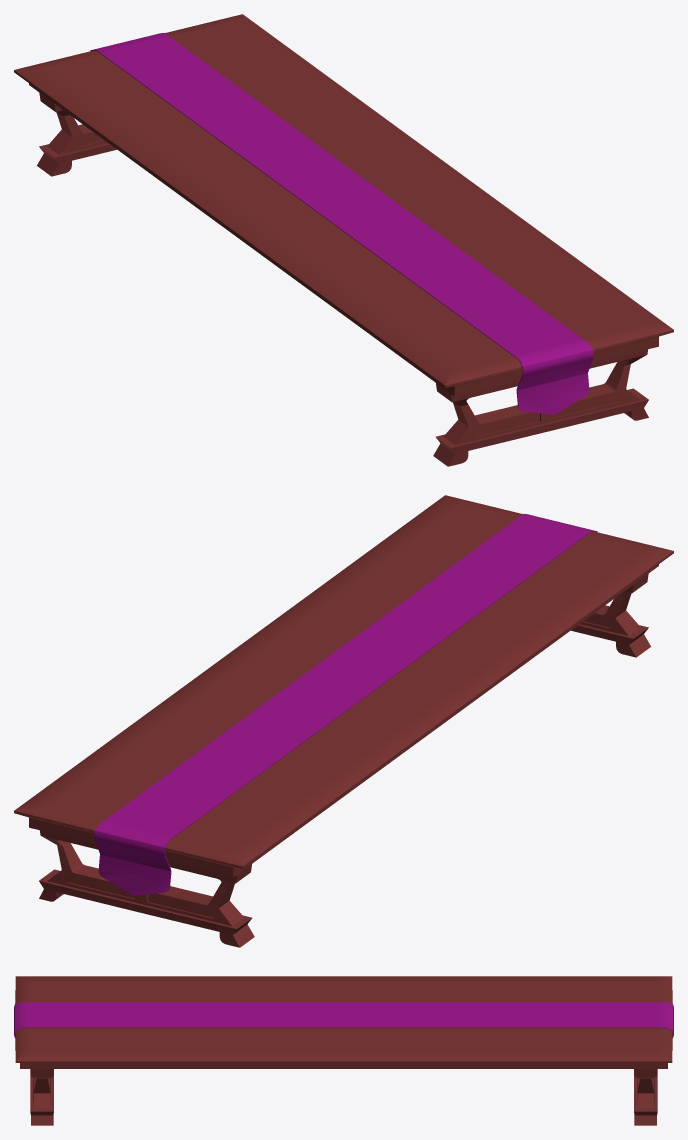
Rendered from DiningRoomTable.fbx.
3 views of the same model, one above another, from view 1: azimuth 30°, elevation 25°; view 2: azimuth 150°, elevation 25°; view 3: azimuth 270°, elevation 25° (orthographic). The views are drawn at different scales.
Parts seen in each view (by area): view 1: RoyalTable; view 2: RoyalTable; view 3: RoyalTable.
Boxes of the visible parts, box(x1,y1,x2,y2) form: RoyalTable: box(14, 14, 673, 466); RoyalTable: box(14, 495, 673, 947); RoyalTable: box(14, 976, 673, 1125).
Bounding box in the file's own units: 185 × 73.89 × 606.
